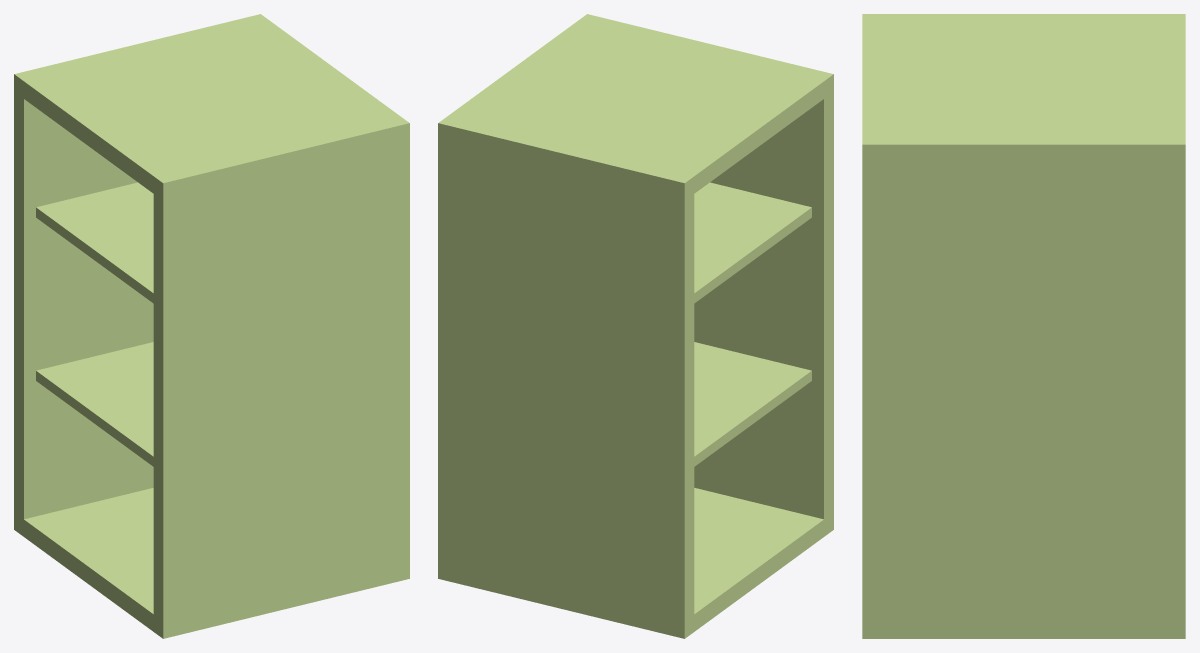
Rendered from Shelf2.fbx.
3 renders of one model, left to right at view 1: azimuth 30°, elevation 25°; view 2: azimuth 150°, elevation 25°; view 3: azimuth 270°, elevation 25°, orthographic. The views are drawn at different scales.
Visible parts, largest first — view 1: Table.020; view 2: Table.020; view 3: Table.020.
Part boxes in pixels (left/top/right/bottom): Table.020: left=14, top=14, right=409, bottom=638; Table.020: left=438, top=14, right=833, bottom=638; Table.020: left=862, top=14, right=1185, bottom=638.
Size of the model in its own units: 0.3822 by 0.675 by 0.4003.
